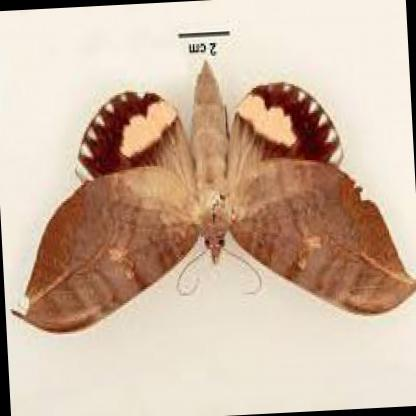fruit sucking moth: (11, 61, 416, 337)
